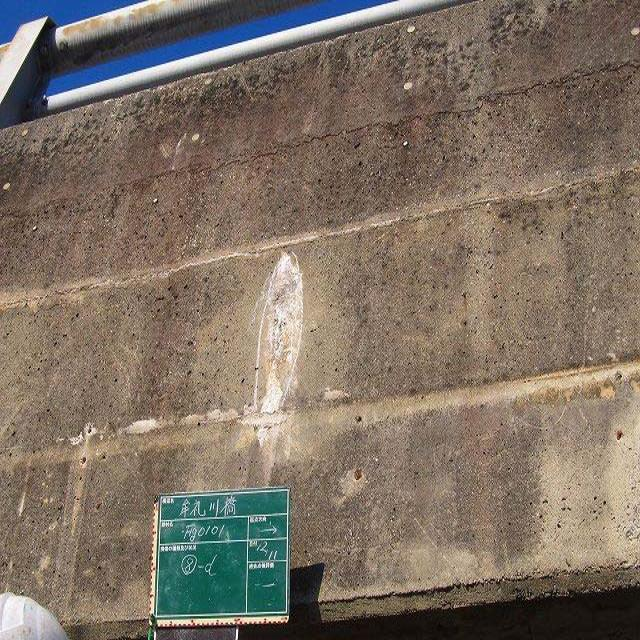freelime: (238, 242, 302, 418)
